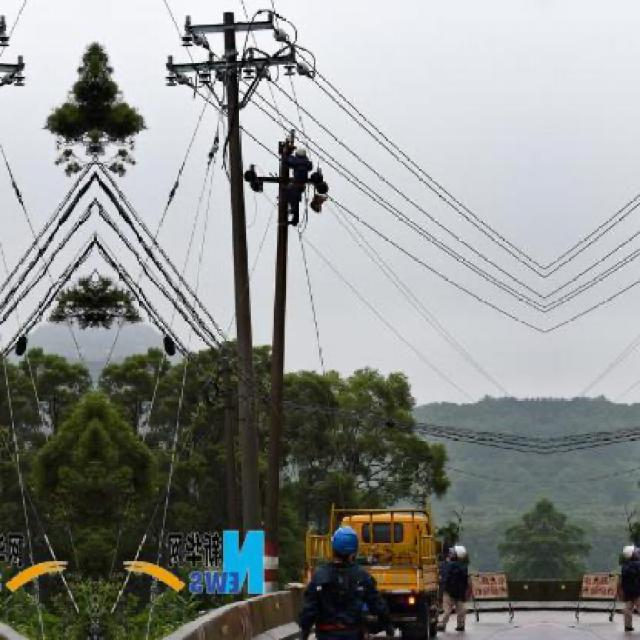helmet: (328, 519, 372, 563), (618, 540, 640, 565), (450, 542, 472, 564), (291, 144, 309, 162)
